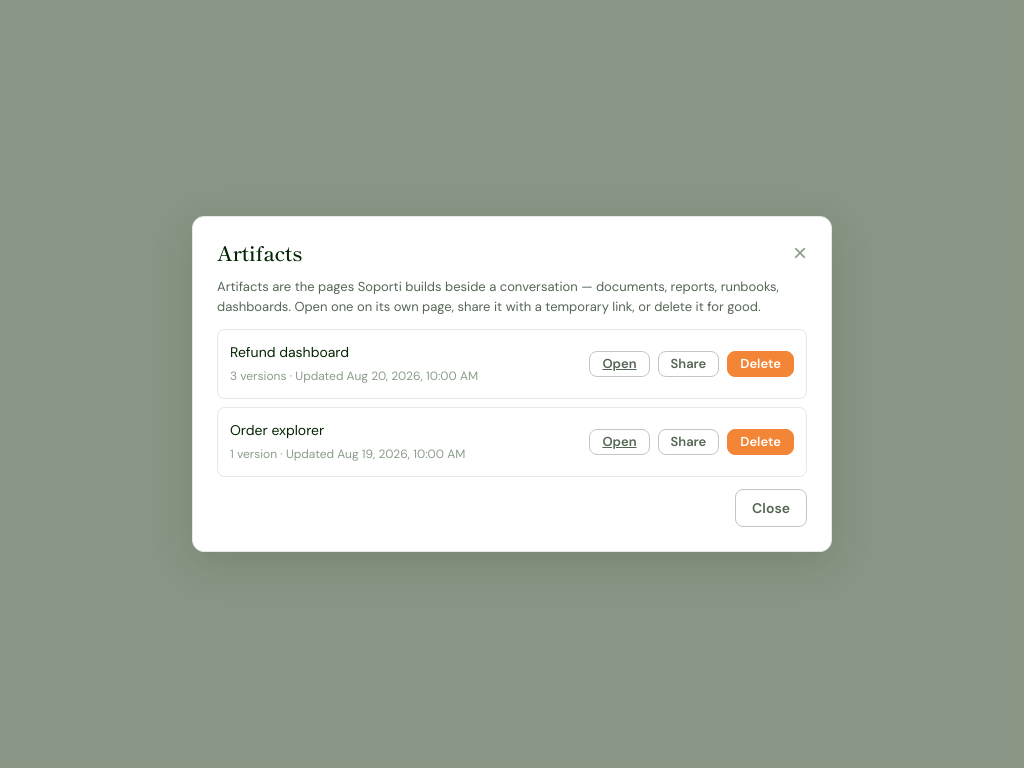
it: ArtifactsModal › shares an artifact and shows the link
Expected: the text "Refund dashboard" is shown, [230,343,349,361]
Click the button "Share" in the row of "Refund dashboard" at (688, 364), box [658,351,719,377]
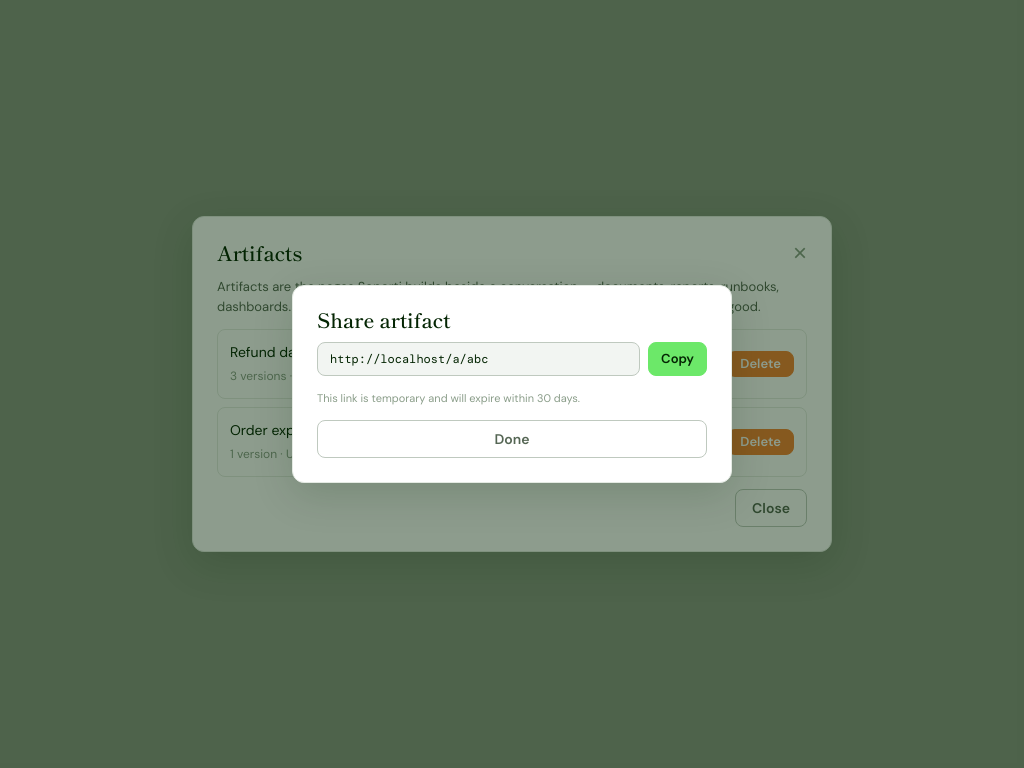
Now the heading "Share artifact" is shown, box [317,305,450,334]
Now the field showing "/a/abc" is shown, box [317,342,640,376]
